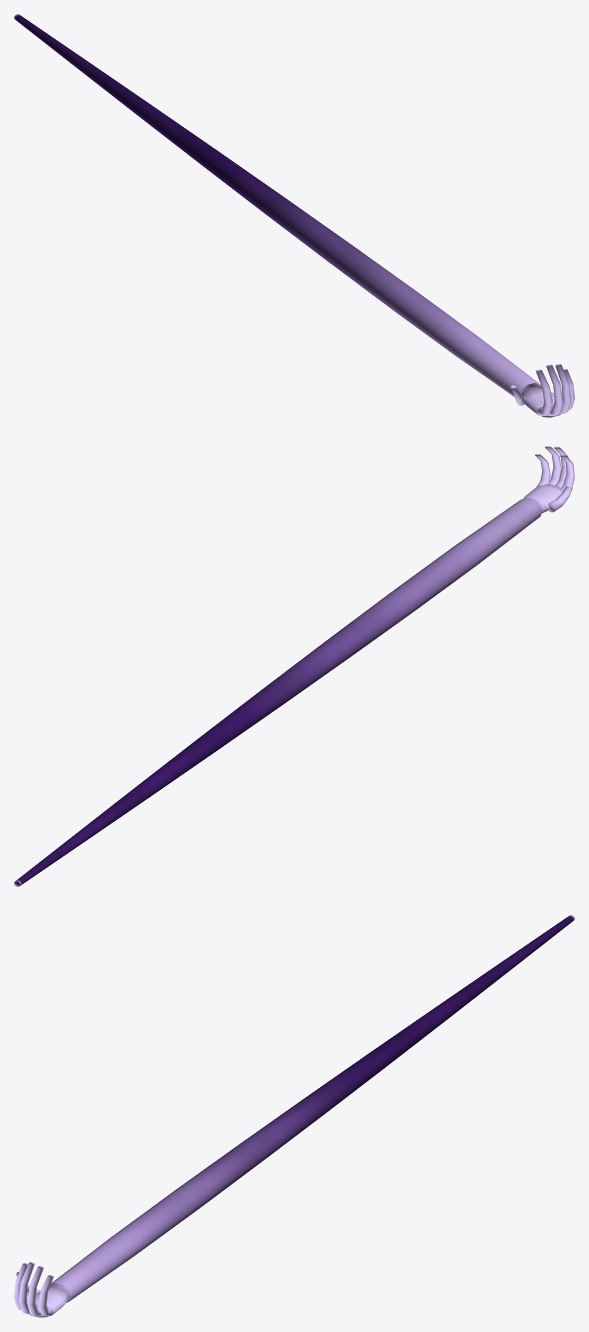
Rendered from psyche-grown-arm1.glb.
The picture shows the model from 3 angles, top to bottom: view 1: azimuth 30°, elevation 25°; view 2: azimuth 150°, elevation 25°; view 3: azimuth 330°, elevation 25°; orthographic projection.
Visible parts, largest first — view 1: Psyche_Grown_Arm; view 2: Psyche_Grown_Arm; view 3: Psyche_Grown_Arm.
Part boxes in pixels (x1,y1,x2,y2): Psyche_Grown_Arm: (14, 14, 574, 417); Psyche_Grown_Arm: (14, 446, 574, 886); Psyche_Grown_Arm: (14, 915, 574, 1317).
Bounding box in the file's own units: 0.0909 × 0.1028 × 1.8.
1 material, 1 textured.
